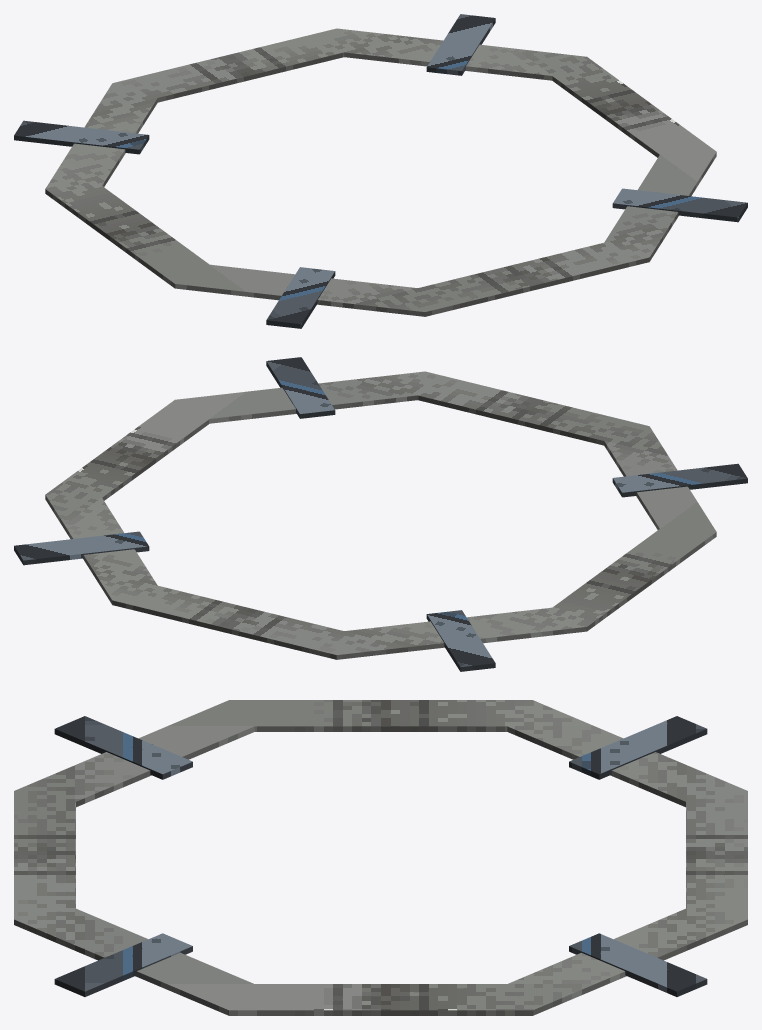
File: fx_warned_ground.glb
3 renders of one model, top to bottom at view 1: azimuth 30°, elevation 25°; view 2: azimuth 150°, elevation 25°; view 3: azimuth 270°, elevation 25°, orthographic. The views are drawn at different scales.
Visible parts, largest first — view 1: warn_ring, warn_tick_3, warn_tick_1, warn_tick_2, warn_tick_0; view 2: warn_ring, warn_tick_0, warn_tick_2, warn_tick_1, warn_tick_3; view 3: warn_ring, warn_tick_0, warn_tick_3, warn_tick_1, warn_tick_2.
Part boxes in pixels (x1,y1,x2,y2): warn_ring: (45, 28, 716, 316); warn_tick_3: (612, 188, 747, 222); warn_tick_1: (14, 120, 149, 154); warn_tick_2: (266, 267, 335, 328); warn_tick_0: (426, 14, 495, 75); warn_ring: (45, 371, 716, 659); warn_tick_0: (14, 531, 149, 565); warn_tick_2: (612, 463, 747, 497); warn_tick_1: (426, 610, 495, 671); warn_tick_3: (266, 357, 335, 418); warn_ring: (14, 700, 747, 1015); warn_tick_0: (569, 933, 707, 996); warn_tick_3: (54, 933, 192, 996); warn_tick_1: (569, 716, 707, 779); warn_tick_2: (54, 716, 192, 779).
Bounding box in the file's own units: 2.4 × 0.025 × 2.4.
2 materials, 2 textured.
